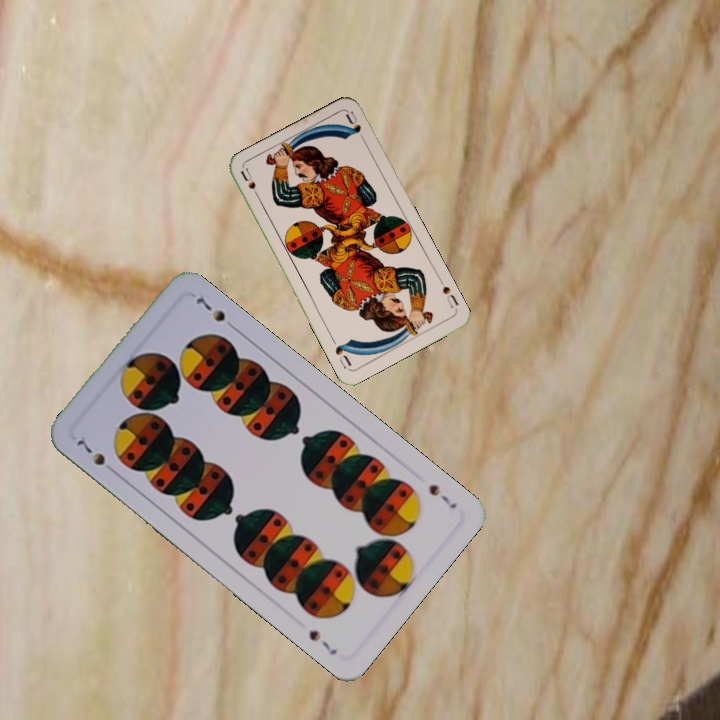S7: (72, 433, 119, 477), (425, 480, 460, 512)
SU: (237, 165, 263, 204), (435, 275, 461, 311)
